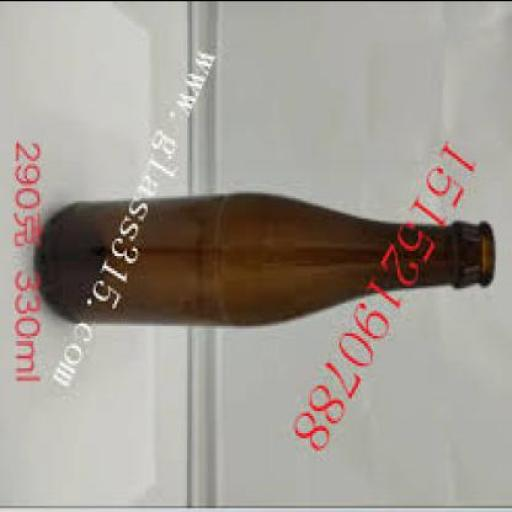glass: (37, 192, 498, 322)
